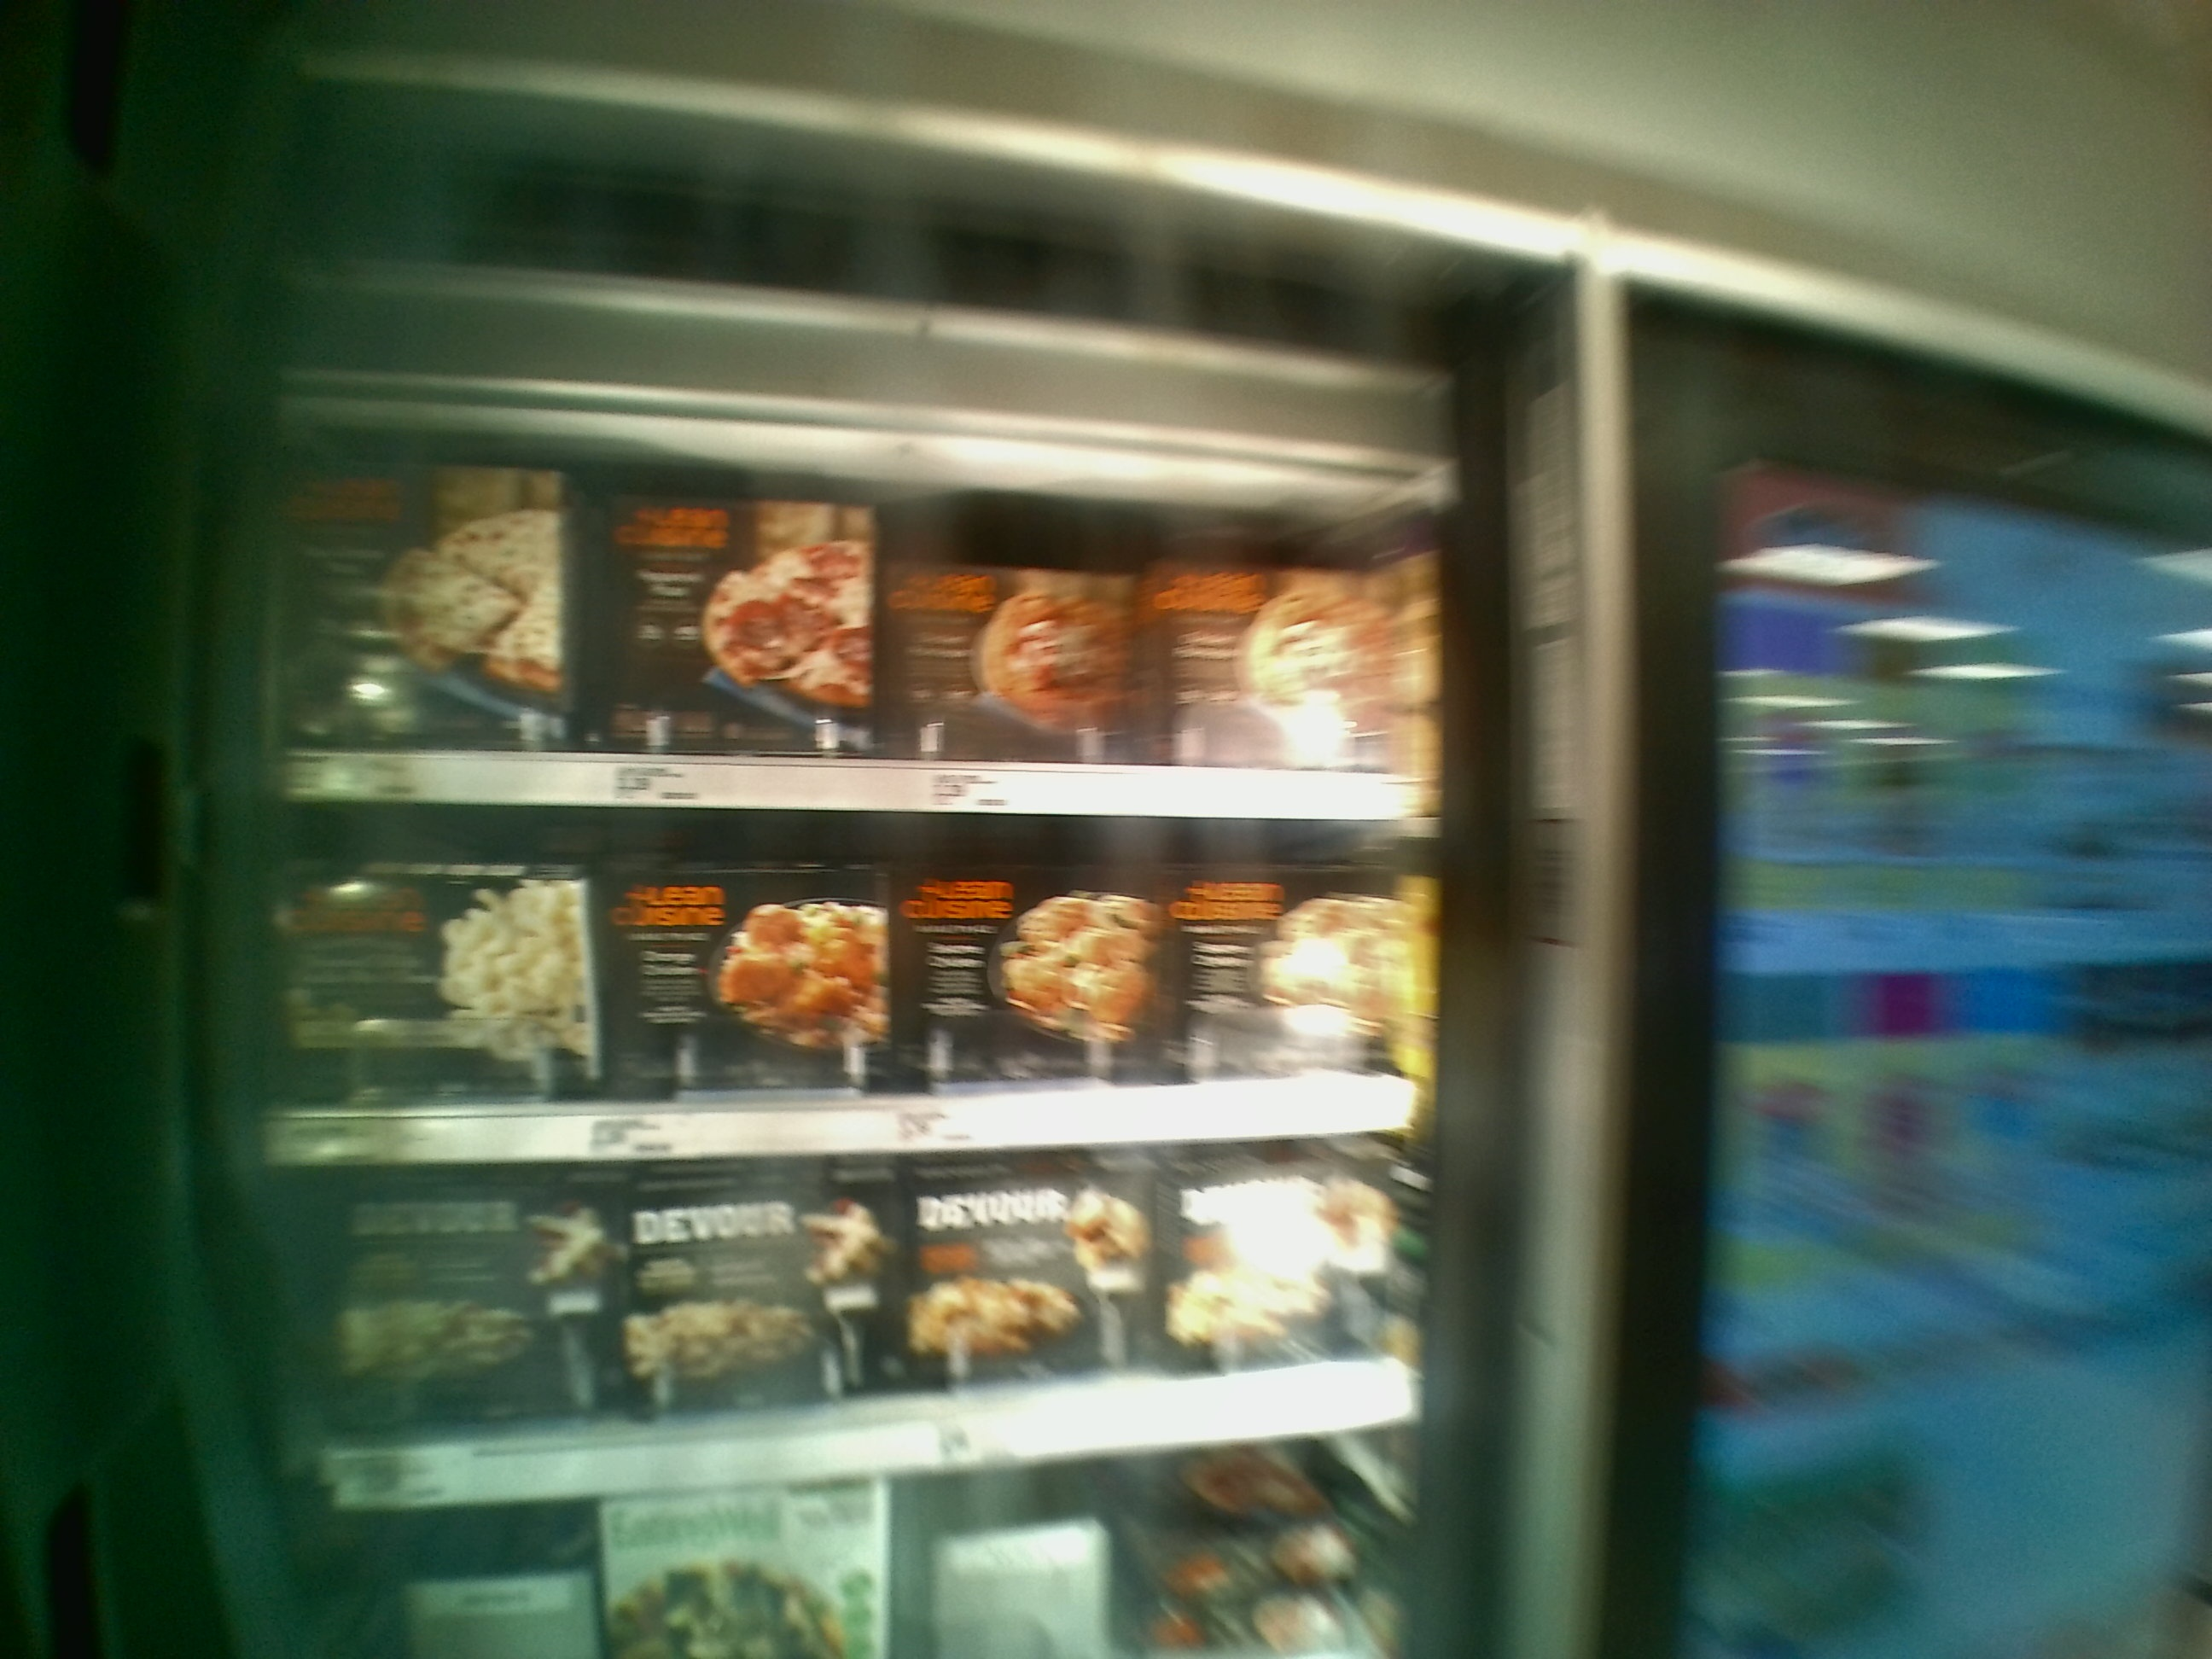shelf: (268, 380, 1411, 817), (280, 1126, 1447, 1507), (261, 802, 1451, 1171)
